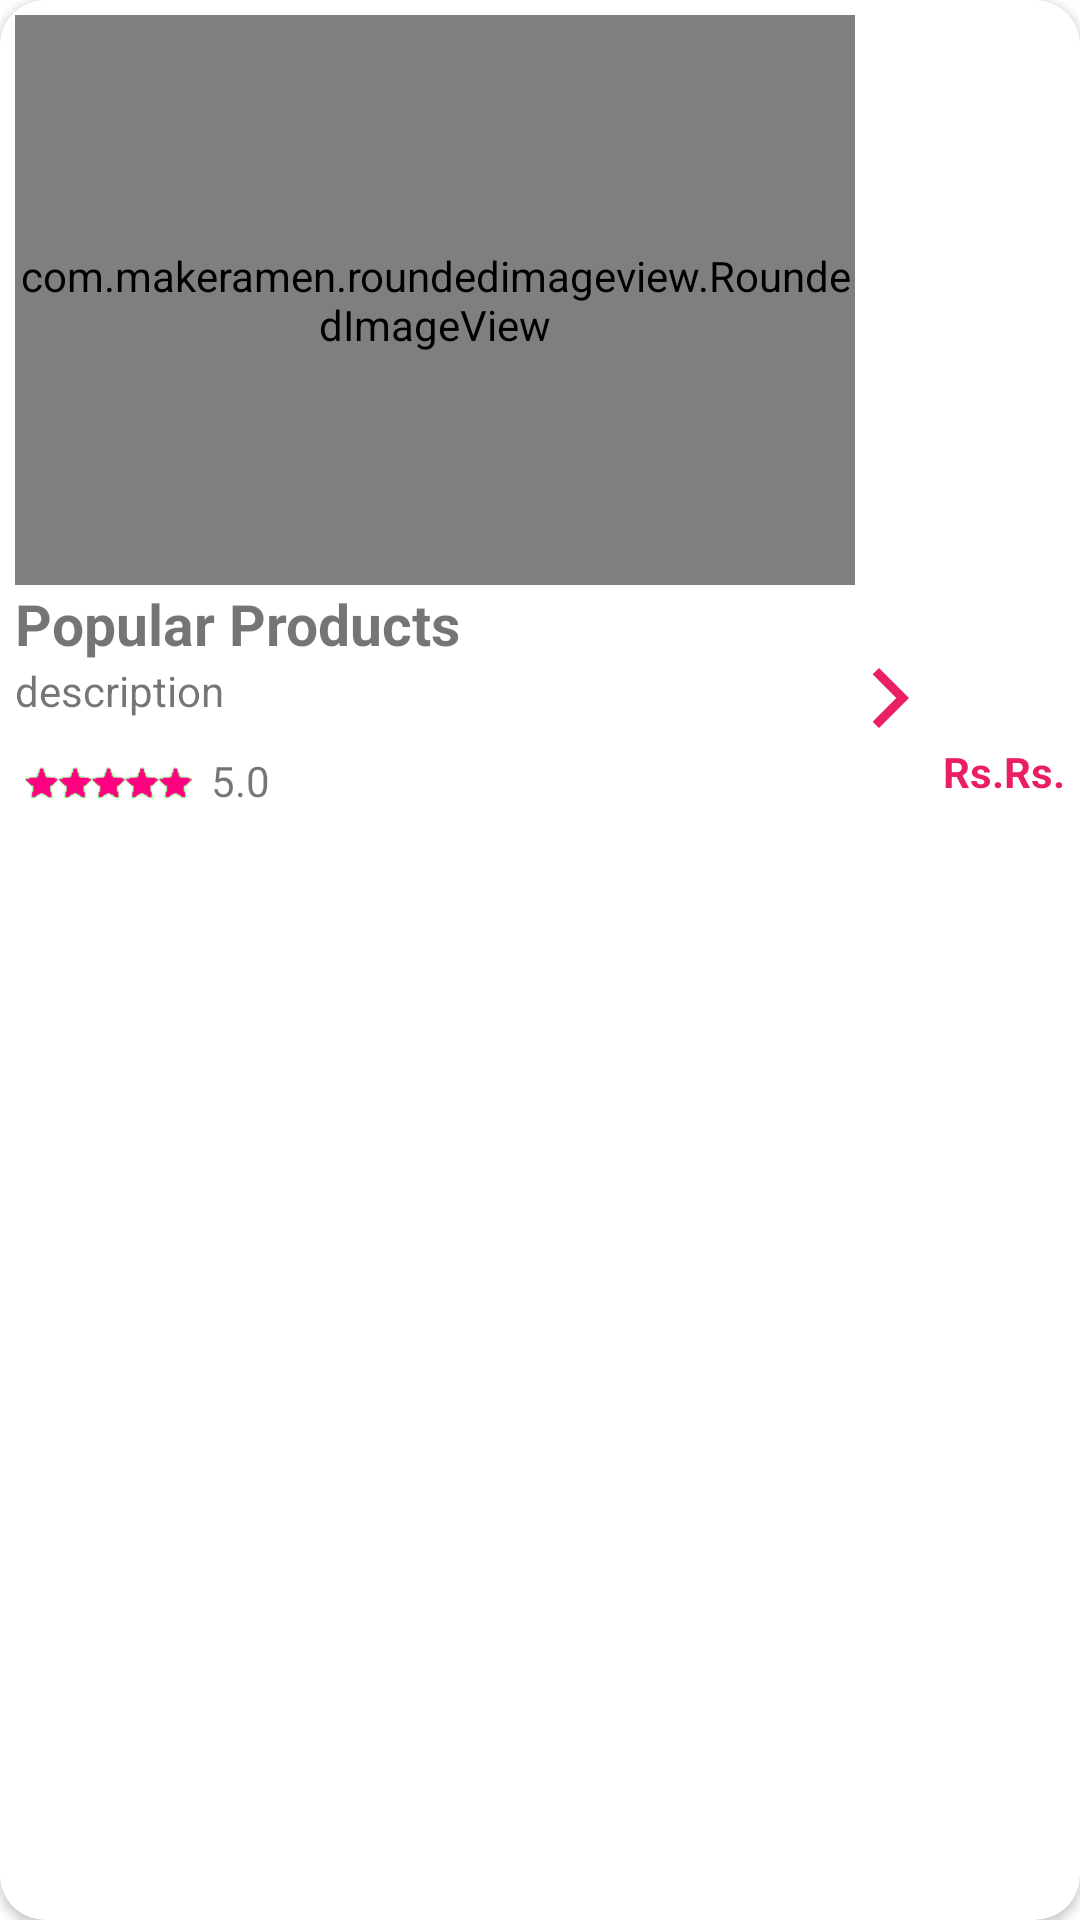

Icon click points for this 1080x1920 phone screenshot, format point (x, y):
arrow: point (890, 698)
ratingbar: point (108, 783)
